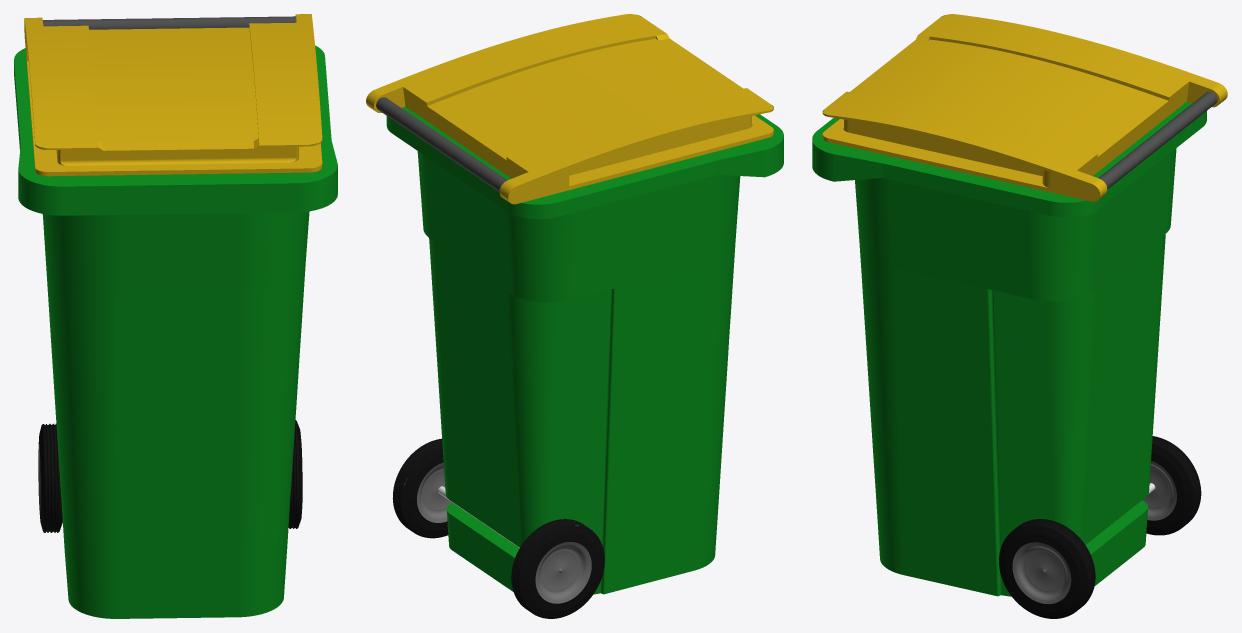
The model's file is poubelle.glb.
3 views of the same model, side by side, from view 1: azimuth 30°, elevation 25°; view 2: azimuth 150°, elevation 25°; view 3: azimuth 270°, elevation 25° (orthographic). The views are drawn at different scales.
Parts seen in each view (by area): view 1: poubelle poubelle [261878]; view 2: poubelle poubelle [261878]; view 3: poubelle poubelle [261878].
Boxes of the visible parts, bbox=[...] form: poubelle poubelle [261878]: bbox=[14, 14, 337, 618]; poubelle poubelle [261878]: bbox=[366, 14, 783, 618]; poubelle poubelle [261878]: bbox=[812, 14, 1227, 618].
Bounding box in the file's own units: 0.912 × 1.19 × 0.9579.
